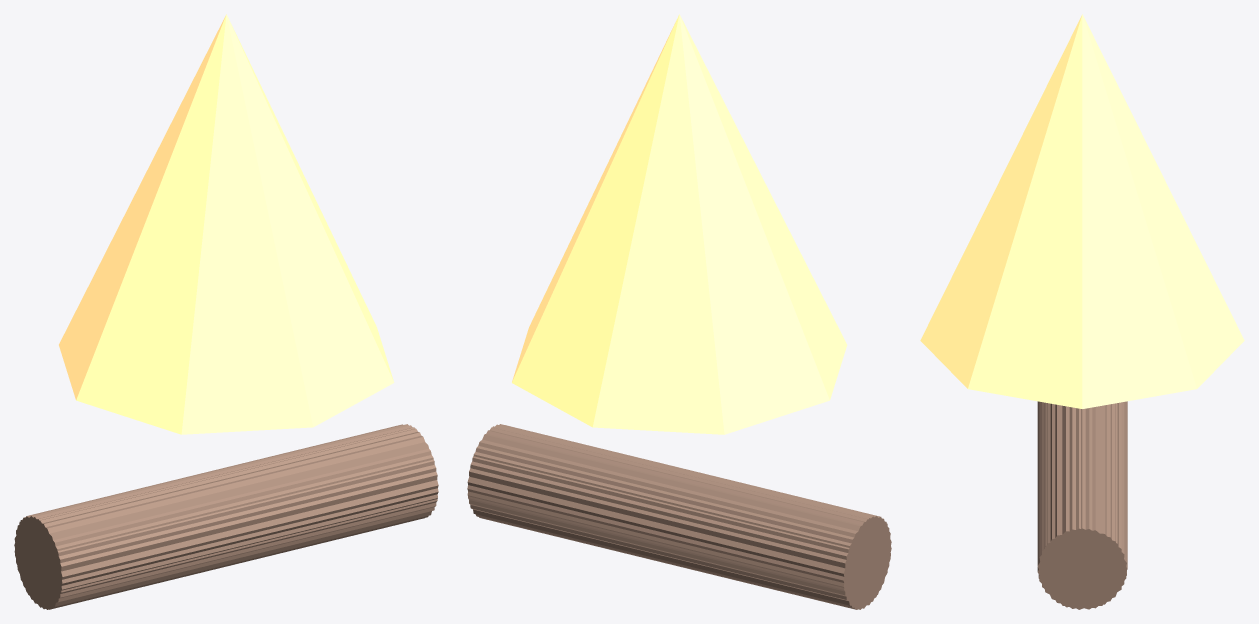
Rendered from campfire.glb.
3 views of the same model, side by side, from view 1: azimuth 30°, elevation 25°; view 2: azimuth 150°, elevation 25°; view 3: azimuth 270°, elevation 25° (orthographic). The views are drawn at different scales.
Parts seen in each view (by area): view 1: campfire_6, campfire_4, campfire_1, campfire_2, campfire_3, campfire_0, campfire_5; view 2: campfire_6, campfire_1, campfire_4, campfire_2, campfire_3, campfire_5, campfire_0; view 3: campfire_6, campfire_2, campfire_0, campfire_1, campfire_4, campfire_3, campfire_5.
Boxes of the visible parts, <box> form: campfire_6: <box>59,14,394,434</box>; campfire_4: <box>16,424,438,606</box>; campfire_1: <box>14,424,437,607</box>; campfire_2: <box>16,425,438,608</box>; campfire_3: <box>14,432,436,609</box>; campfire_0: <box>15,427,437,609</box>; campfire_5: <box>14,428,437,609</box>; campfire_6: <box>512,14,847,434</box>; campfire_1: <box>467,424,890,605</box>; campfire_4: <box>469,433,891,608</box>; campfire_2: <box>469,430,891,609</box>; campfire_3: <box>467,424,889,607</box>; campfire_5: <box>467,426,890,609</box>; campfire_0: <box>468,427,890,609</box>; campfire_6: <box>920,14,1244,408</box>; campfire_2: <box>1037,402,1124,608</box>; campfire_0: <box>1038,403,1126,605</box>; campfire_1: <box>1039,401,1126,609</box>; campfire_4: <box>1037,401,1124,609</box>; campfire_3: <box>1042,401,1127,608</box>; campfire_5: <box>1039,402,1126,607</box>.
Size of the model in its own units: 0.9 by 1.25 by 0.72.
